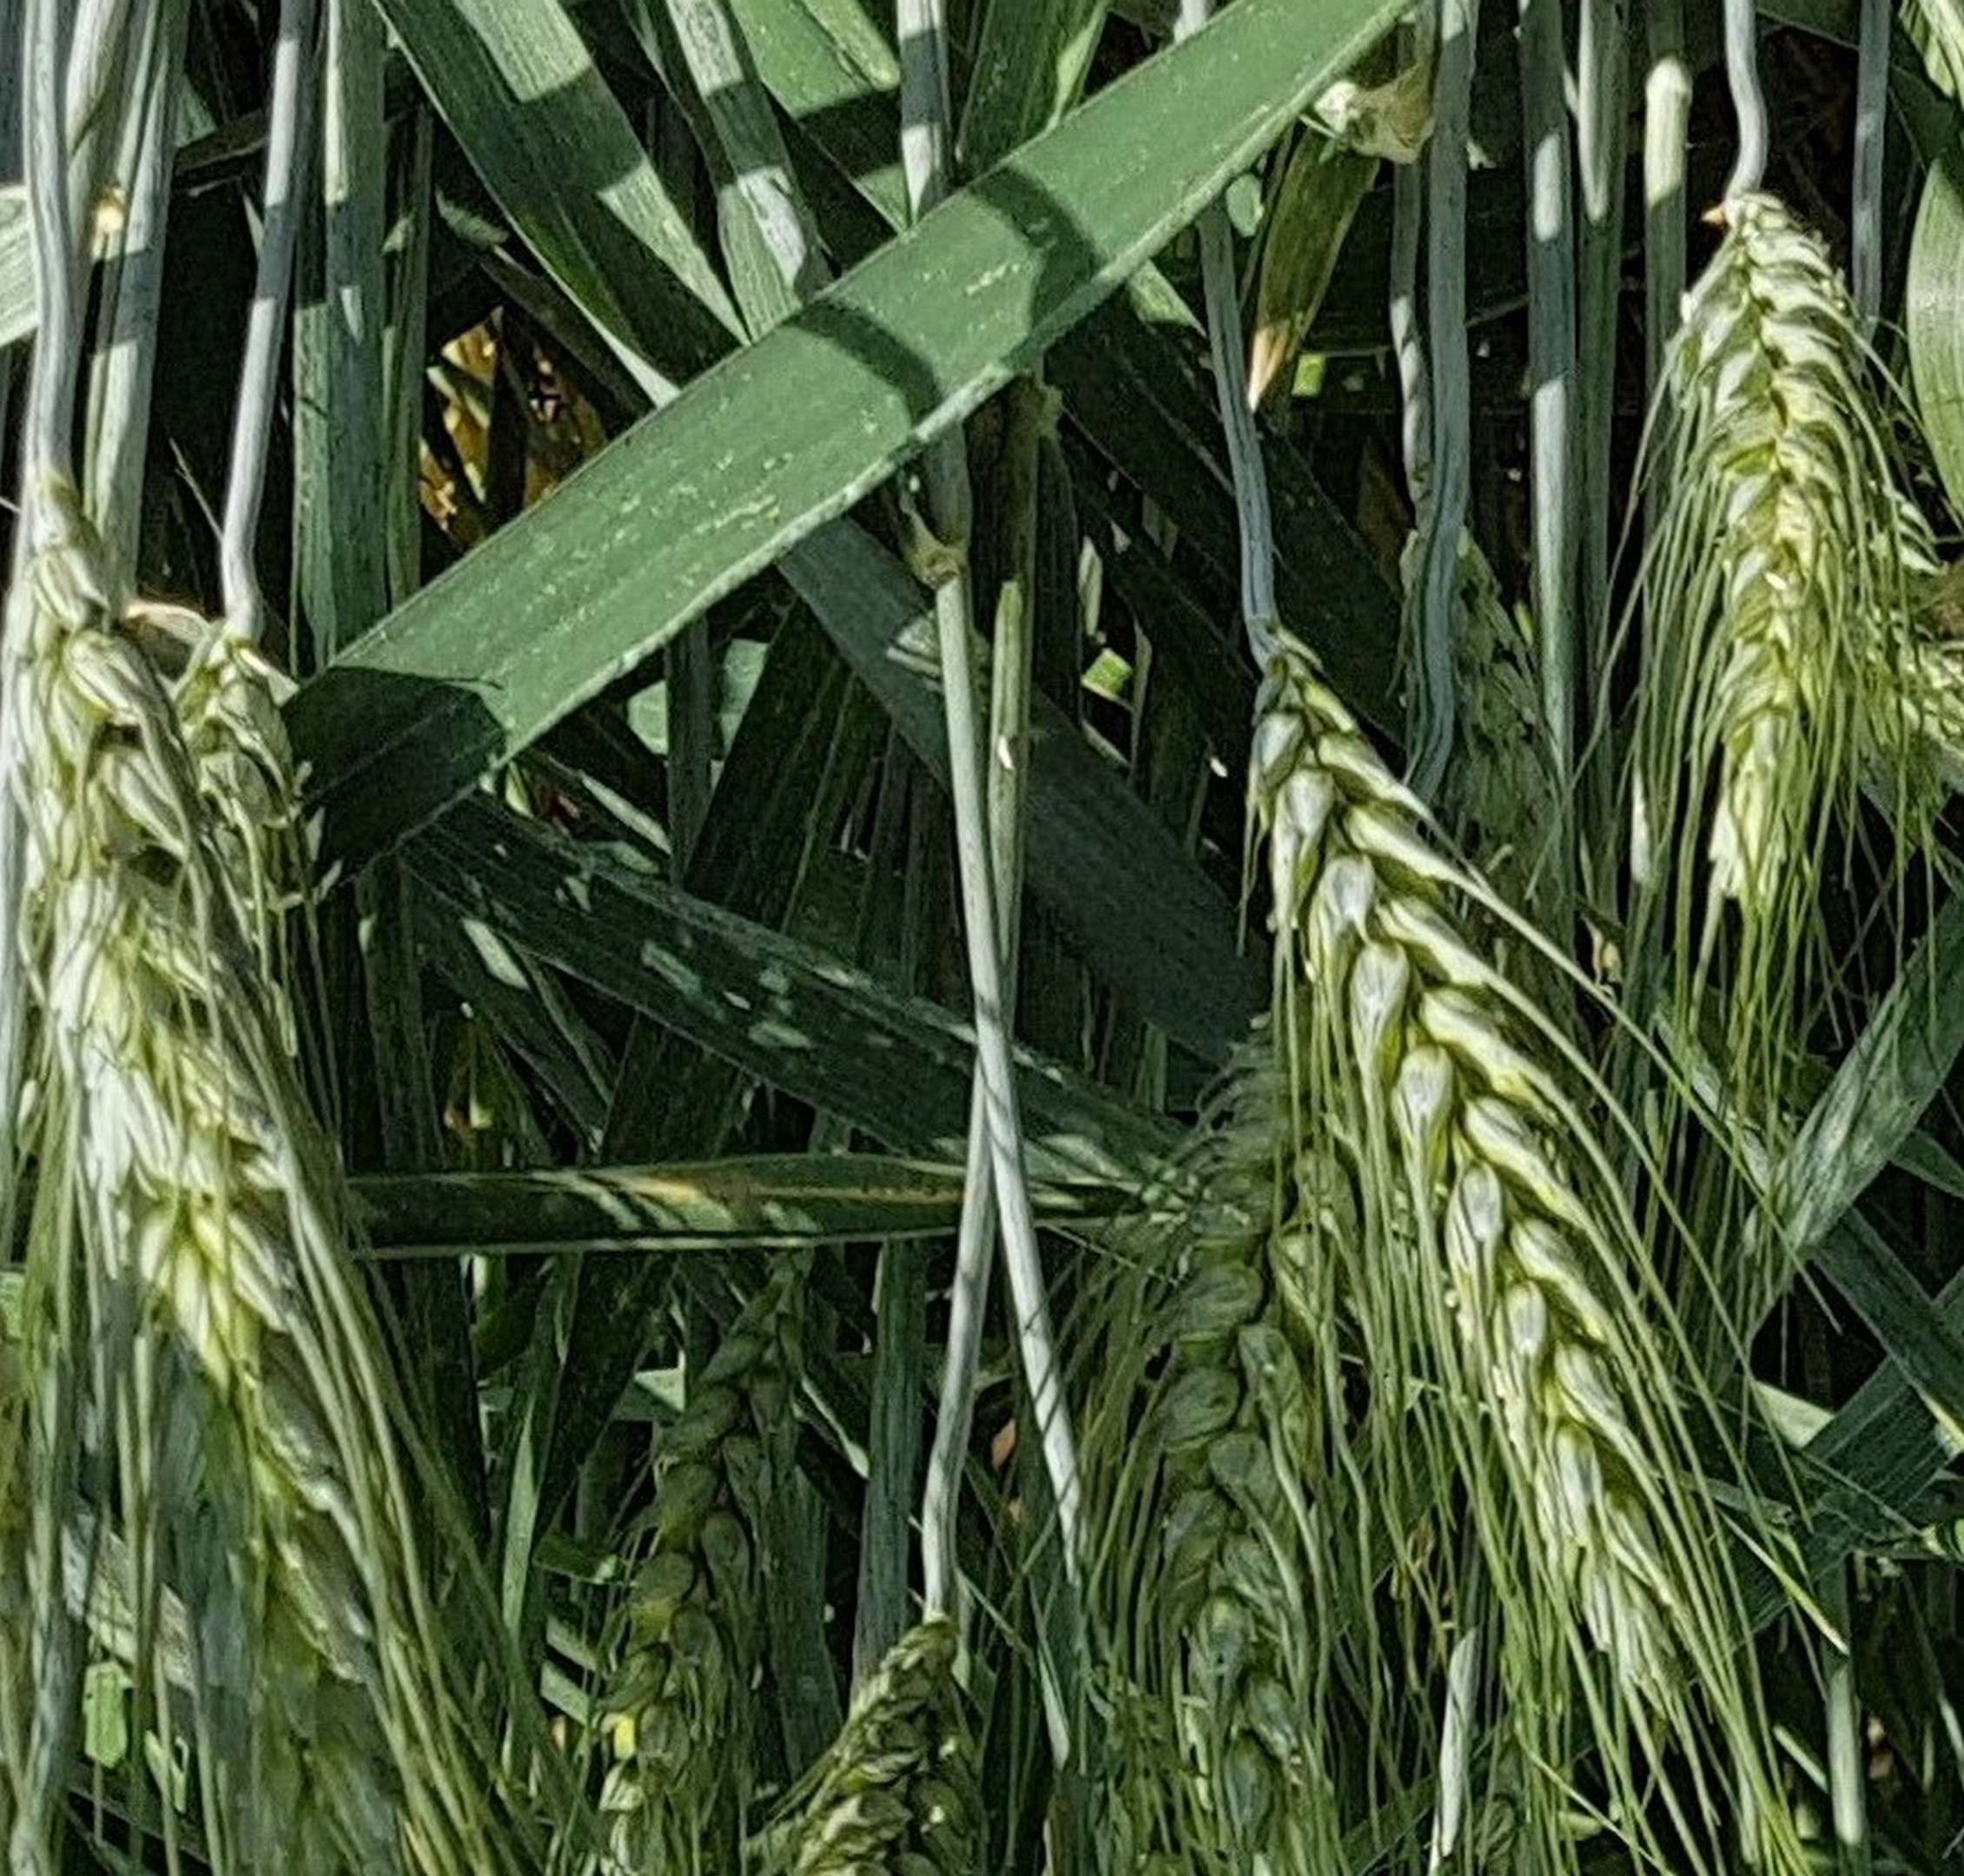Healthy Wheat: (1270, 686, 1755, 1708)
